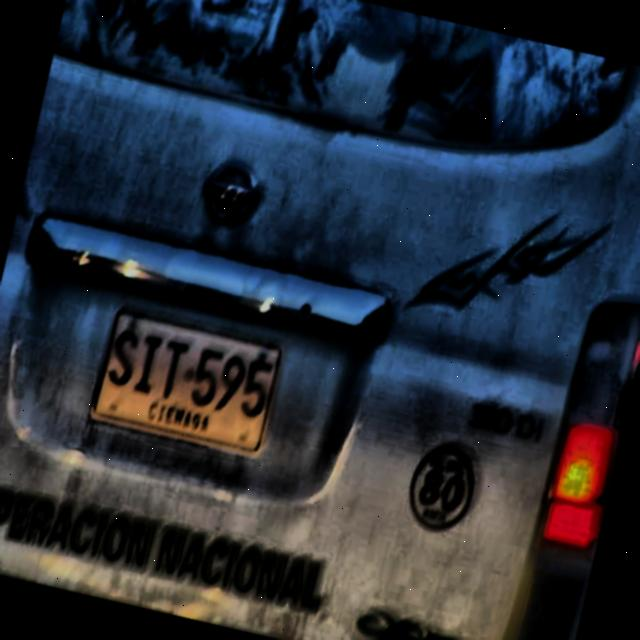plate: (93, 311, 281, 452)
